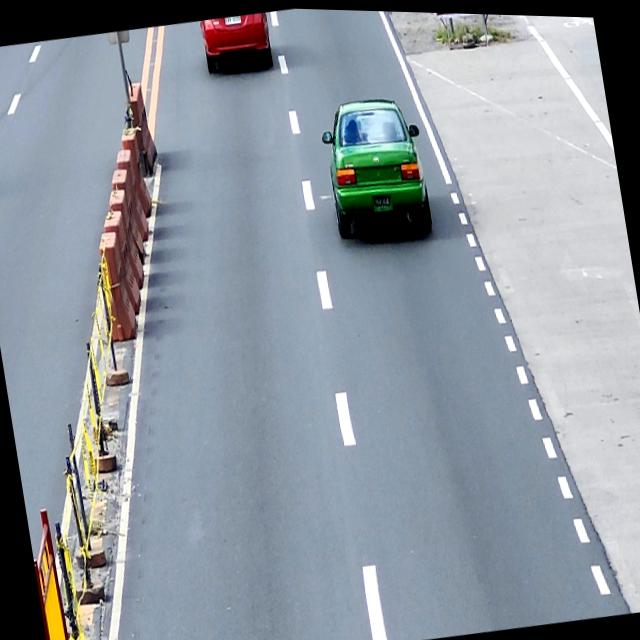Car: (316, 88, 435, 244), (200, 10, 274, 75)
License-Plate: (371, 189, 394, 211), (225, 14, 242, 26)
